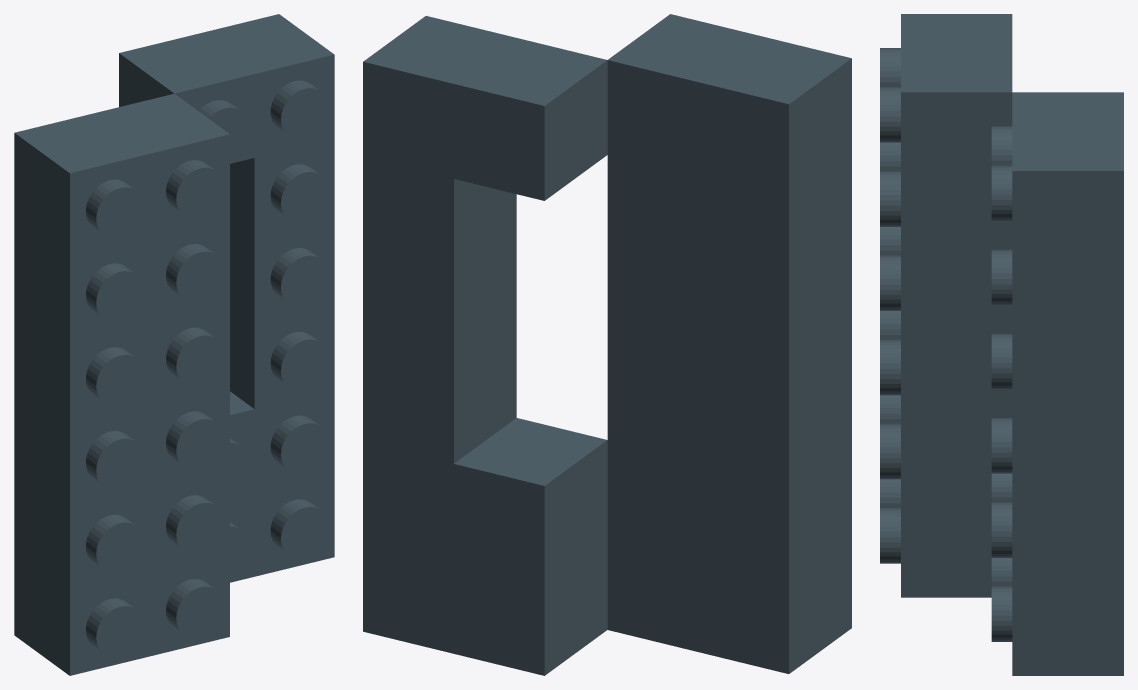
File: current.glb
3 renders of one model, left to right at view 1: azimuth 30°, elevation 25°; view 2: azimuth 150°, elevation 25°; view 3: azimuth 270°, elevation 25°, orthographic. The views are drawn at different scales.
Visible parts, largest first — view 1: world; view 2: world; view 3: world.
Part boxes in pixels (x1,y1,x2,y2): world: (14, 14, 334, 675); world: (363, 14, 851, 675); world: (880, 14, 1123, 675).
Bounding box in the file's own units: 32 × 48 × 21.
